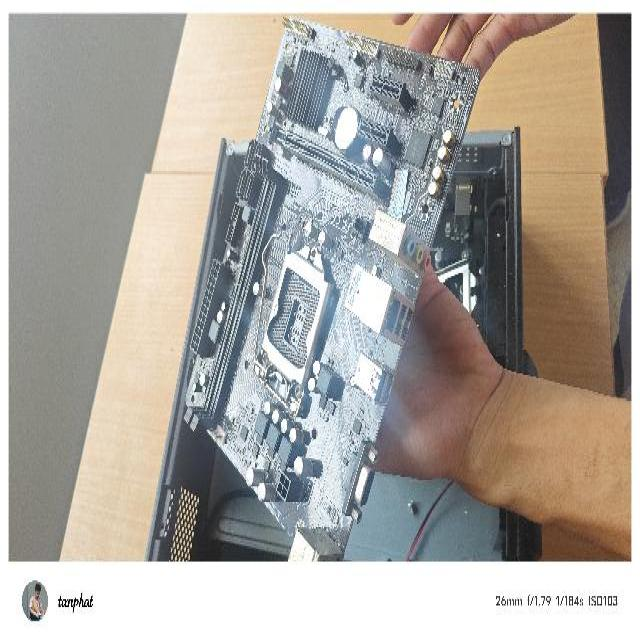Mainboard: (179, 13, 480, 563)
